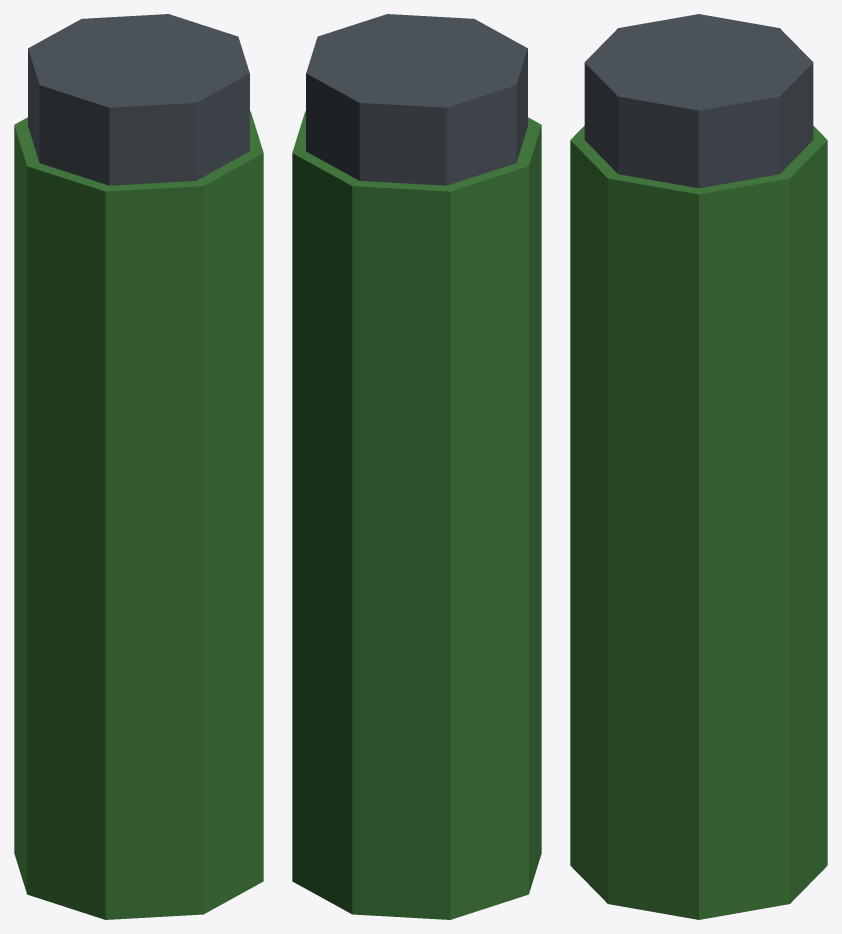
Rendered from GD_Thermos_01.glb.
The picture shows the model from 3 angles, left to right: view 1: azimuth 30°, elevation 25°; view 2: azimuth 150°, elevation 25°; view 3: azimuth 270°, elevation 25°; orthographic projection.
Visible parts, largest first — view 1: GD_Thermos_01; view 2: GD_Thermos_01; view 3: GD_Thermos_01.
Part boxes in pixels (left/top/right/bottom): GD_Thermos_01: left=14, top=14, right=263, bottom=919; GD_Thermos_01: left=292, top=14, right=541, bottom=919; GD_Thermos_01: left=570, top=14, right=827, bottom=919.
Size of the model in its own units: 0.09 by 0.31 by 0.09.
Materials: 1 (1 with a texture image).
